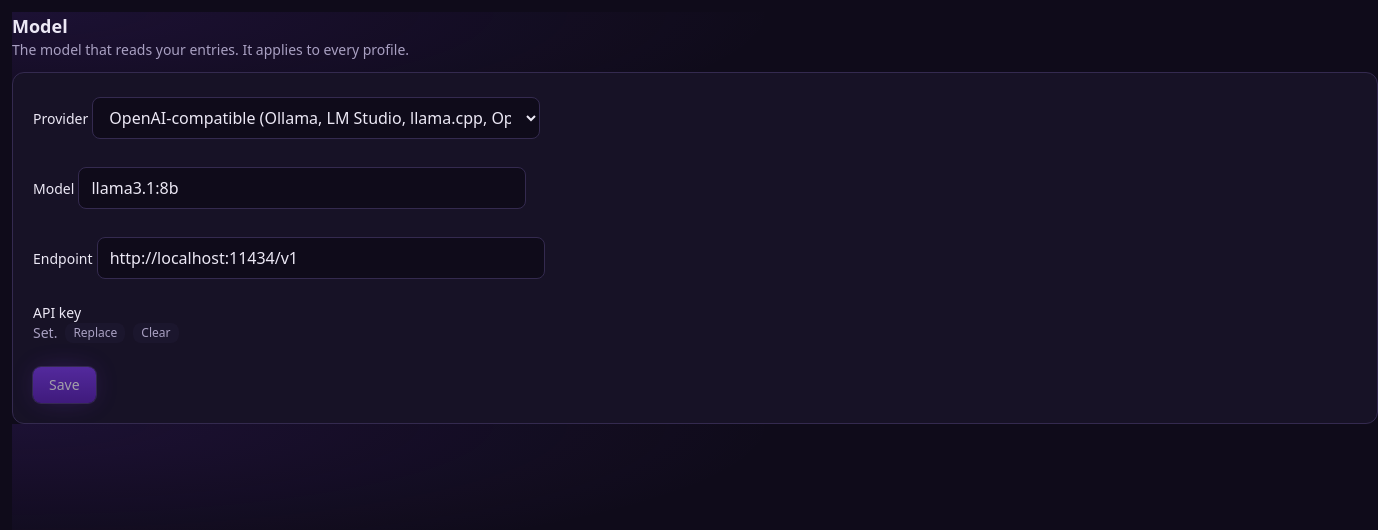
Scenario: ProviderSettings › clears the key, and leaves it out when untouched
Replace the text in the field labelled "Model" with "qwen3:8b" at (302, 188), box [78,167,526,209]
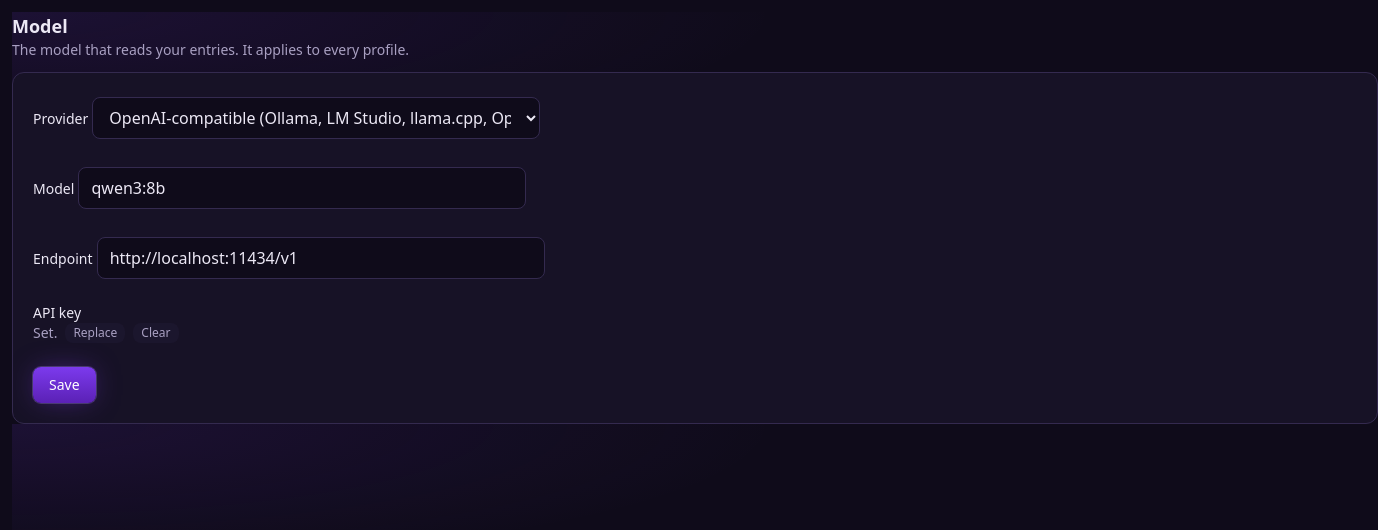
Submit the form, box [33,97,545,403]
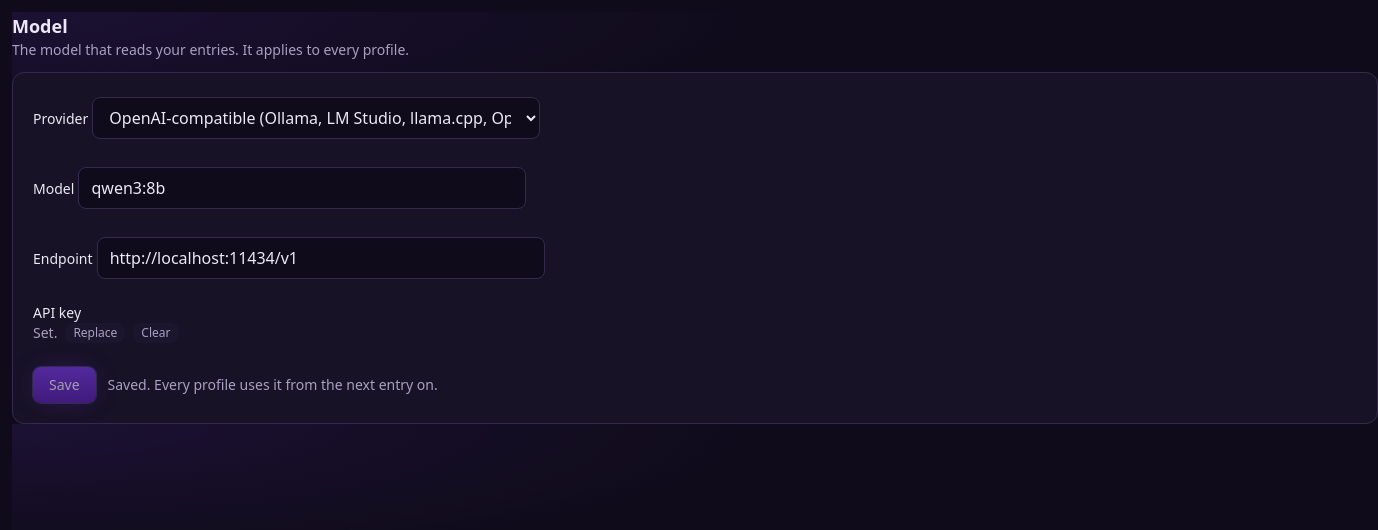
Click the button "Clear".
click(156, 333)  # box [133,323,178,343]
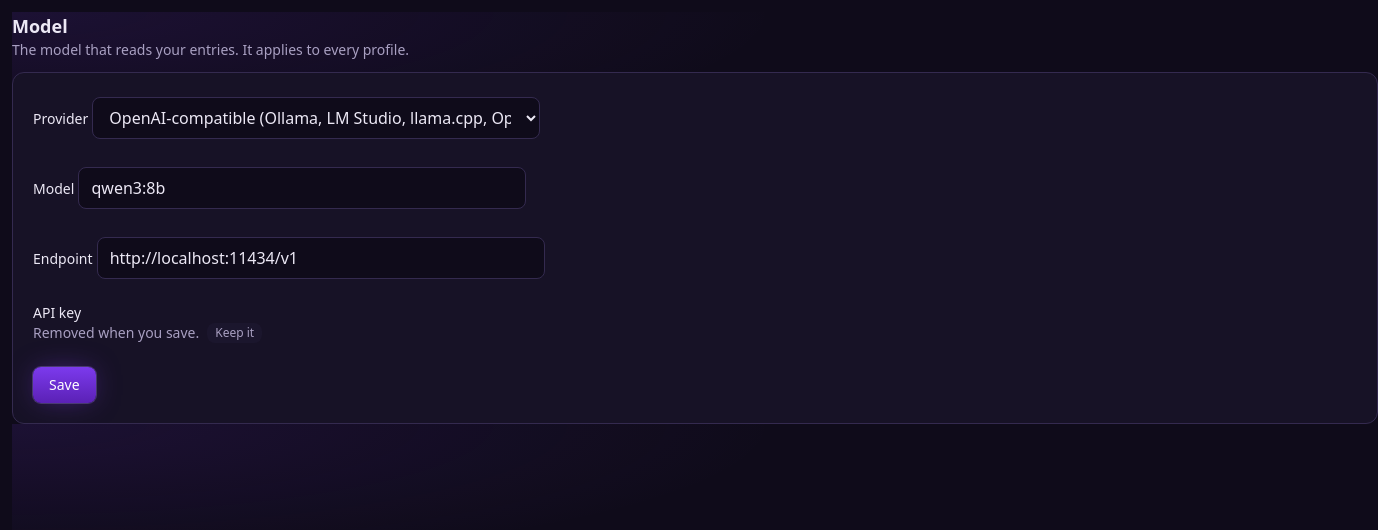
Submit the form, box [33,97,545,403]
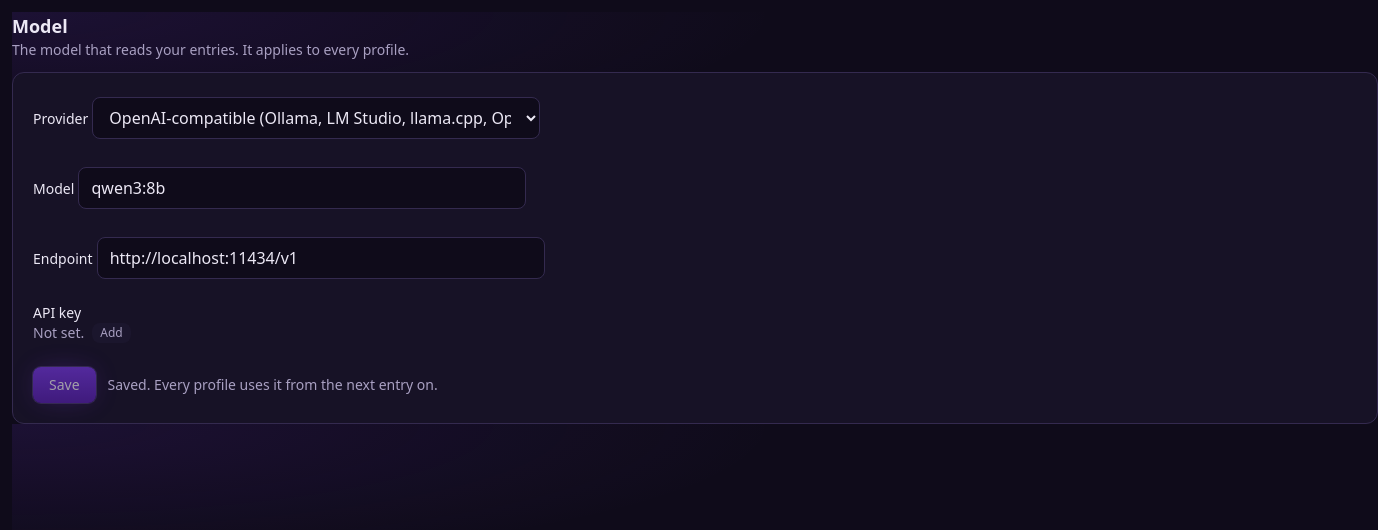
Result: the message "Not set." is shown at [33,323,84,343]
